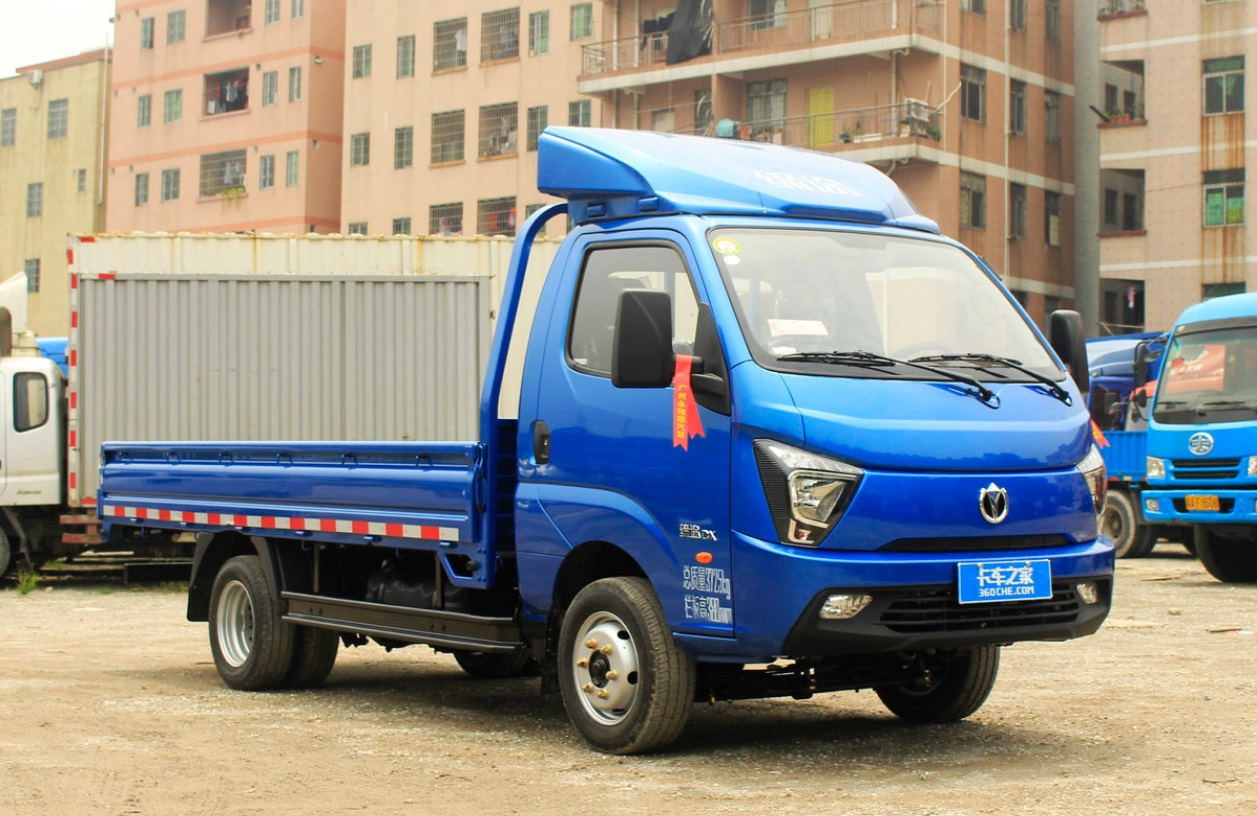truck: (92, 122, 1119, 758)
